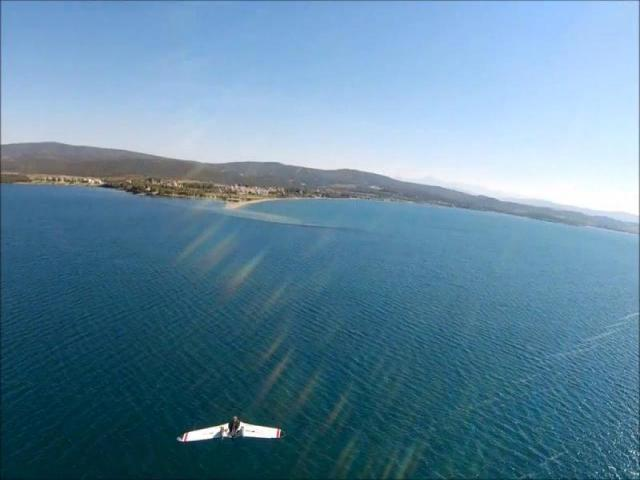hedef: (172, 408, 292, 466)
